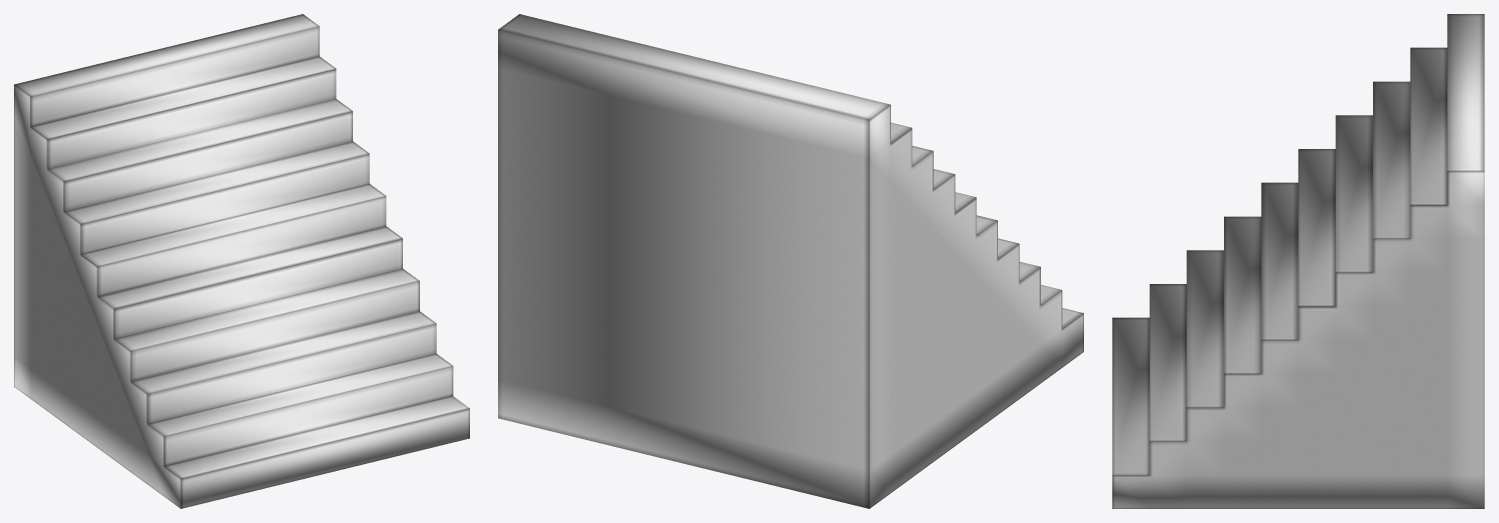
File: Stairs-01.fbx
The picture shows the model from 3 angles, left to right: view 1: azimuth 30°, elevation 25°; view 2: azimuth 150°, elevation 25°; view 3: azimuth 270°, elevation 25°; orthographic projection. The views are drawn at different scales.
Parts seen in each view (by area): view 1: Stairs-01; view 2: Stairs-01; view 3: Stairs-01.
Boxes of the visible parts, bbox=[...] form: Stairs-01: bbox=[14, 14, 469, 508]; Stairs-01: bbox=[498, 14, 1083, 508]; Stairs-01: bbox=[1112, 14, 1484, 508].
Bounding box in the file's own units: 1 × 1 × 1.
